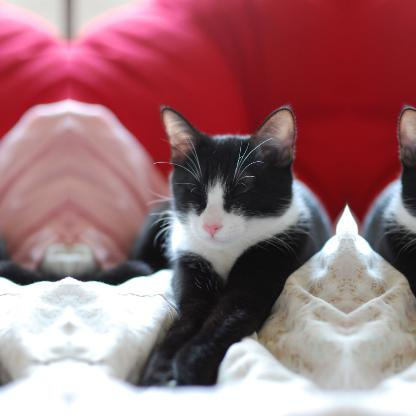Cat: (134, 102, 332, 386), (360, 102, 415, 387)
